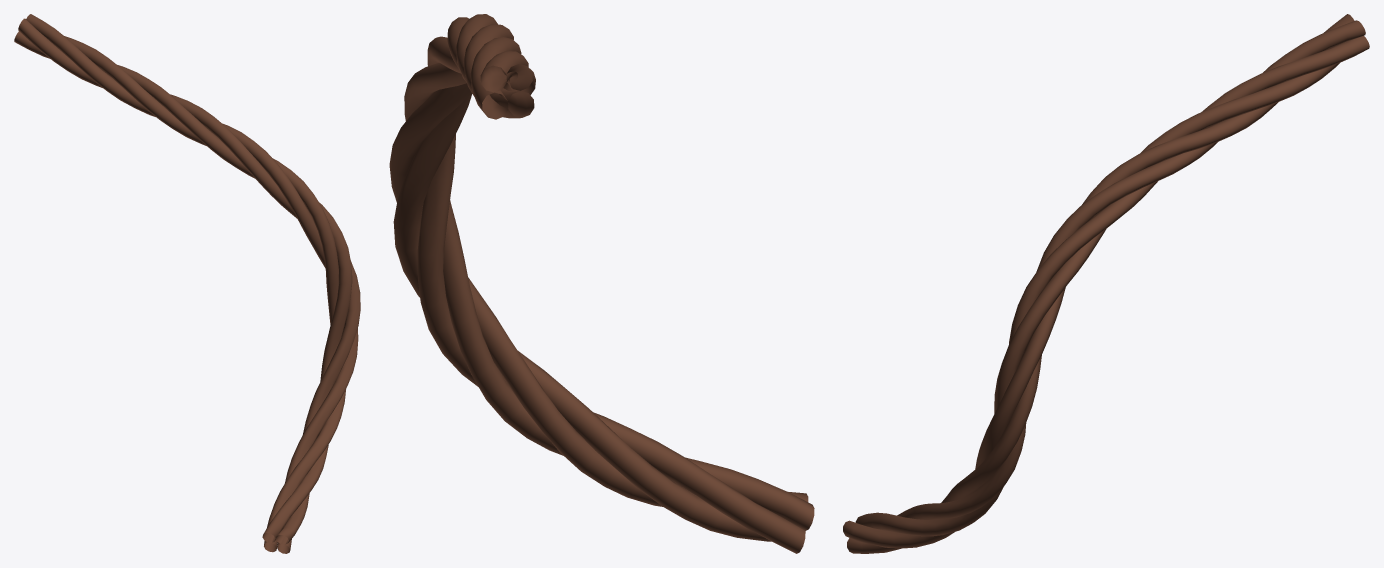
The model's file is Racine mur 4.fbx.
The picture shows the model from 3 angles, left to right: view 1: azimuth 30°, elevation 25°; view 2: azimuth 150°, elevation 25°; view 3: azimuth 270°, elevation 25°; orthographic projection. The views are drawn at different scales.
Visible parts, largest first — view 1: Cercle.002; view 2: Cercle.002; view 3: Cercle.002.
Part boxes in pixels (<box>): Cercle.002: <box>14,14,360,553</box>; Cercle.002: <box>389,14,814,553</box>; Cercle.002: <box>843,14,1369,553</box>.
Size of the model in its own units: 591 by 1103 by 1051.
